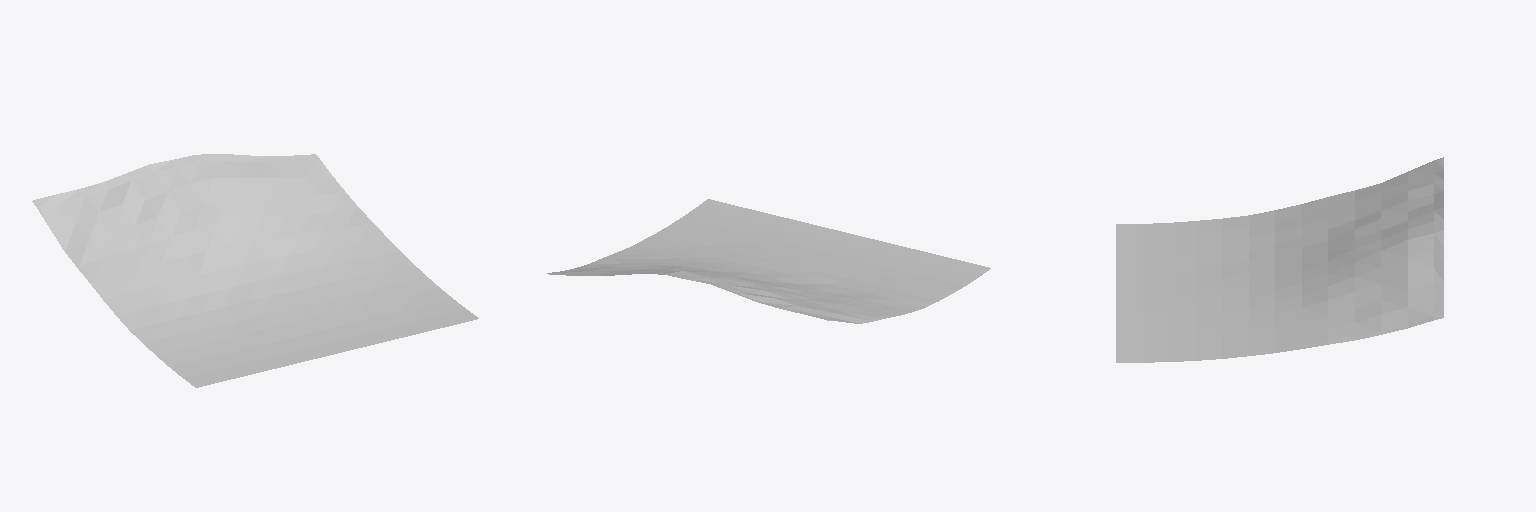
The model's file is Landscape.047.obj.
3 renders of one model, left to right at view 1: azimuth 30°, elevation 25°; view 2: azimuth 150°, elevation 25°; view 3: azimuth 270°, elevation 25°, orthographic.
Visible parts, largest first — view 1: Landscape.047; view 2: Landscape.047; view 3: Landscape.047.
Part boxes in pixels (x1,y1,x2,y2): Landscape.047: (32, 154, 478, 387); Landscape.047: (547, 199, 990, 323); Landscape.047: (1116, 157, 1443, 362).
Bounding box in the file's own units: 32 × 8.08 × 32.